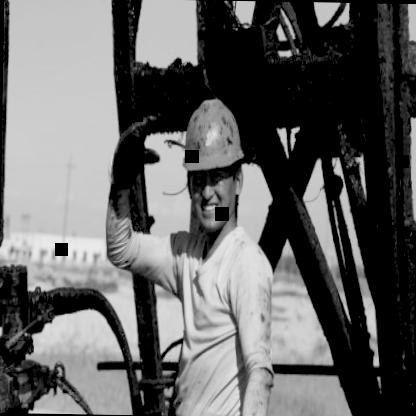helmet: (174, 83, 252, 238)
